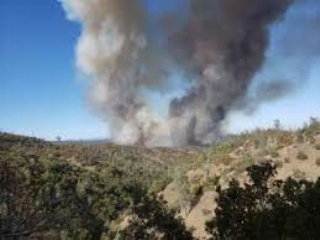smoke: (60, 1, 171, 148), (181, 2, 280, 152)
